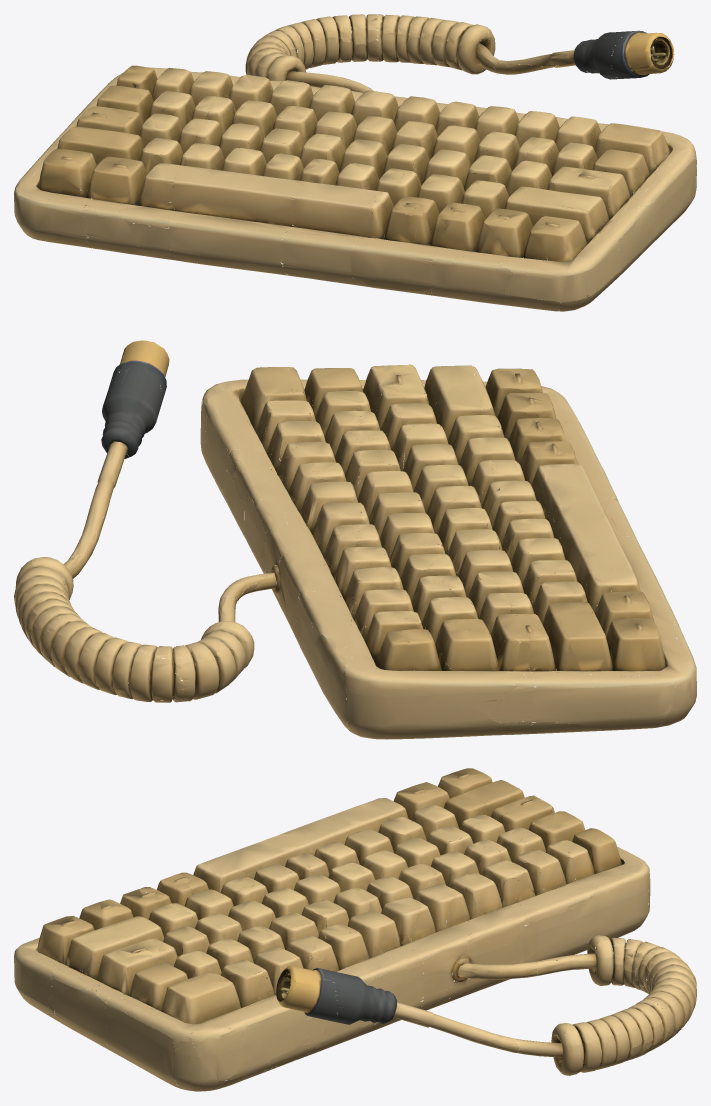
Rendered from keyboard.parts.glb.
The picture shows the model from 3 angles, top to bottom: view 1: azimuth 30°, elevation 25°; view 2: azimuth 150°, elevation 25°; view 3: azimuth 270°, elevation 25°; orthographic projection. The views are drawn at different scales.
Visible parts, largest first — view 1: keys, body; view 2: keys, body; view 3: keys, body.
Boxes of the visible parts, left/top/right/bottom form: keys: left=16, top=14, right=696, bottom=275; body: left=14, top=27, right=696, bottom=311; keys: left=20, top=340, right=693, bottom=697; body: left=14, top=406, right=696, bottom=739; keys: left=14, top=768, right=689, bottom=1056; body: left=14, top=872, right=696, bottom=1091.
Size of the model in its own units: 0.9775 by 0.2199 by 0.9799.
2 materials, 1 textured.
